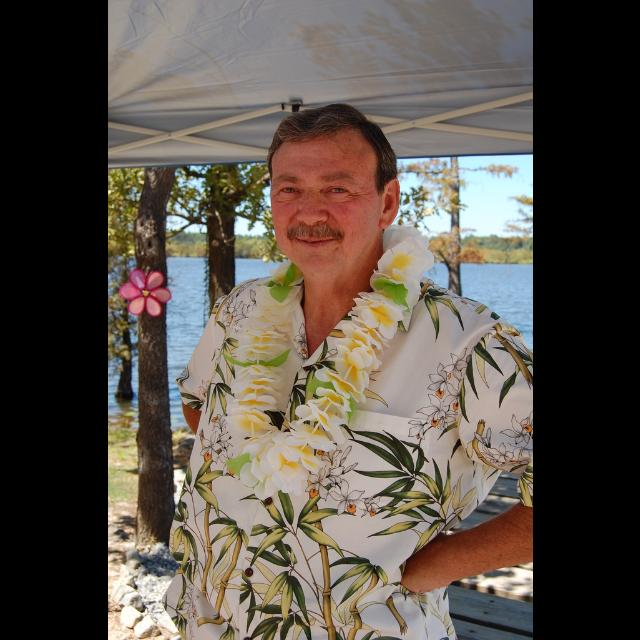Flower: (224, 223, 431, 494), (118, 264, 162, 322)
